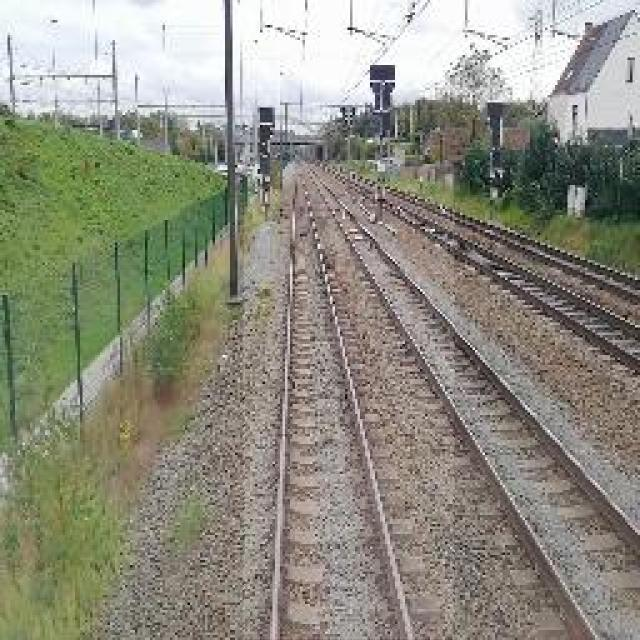rail: (245, 161, 455, 640)
